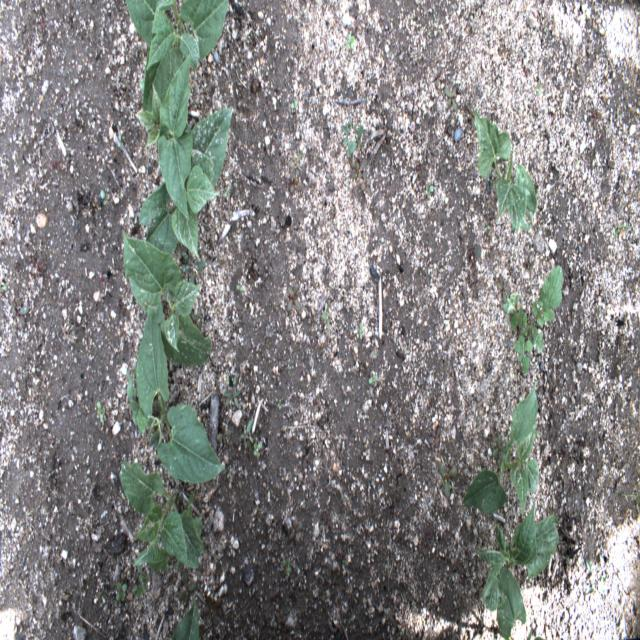crop: (139, 60, 236, 268), (127, 312, 221, 486), (119, 230, 217, 369), (126, 0, 229, 123), (477, 502, 560, 636), (120, 462, 202, 588), (462, 383, 541, 512), (473, 109, 538, 233), (166, 593, 200, 638)
weed: (498, 264, 562, 378), (348, 153, 377, 204), (237, 416, 264, 463), (278, 151, 307, 193), (338, 116, 366, 157), (438, 456, 461, 498), (220, 373, 244, 413), (442, 74, 462, 120), (467, 240, 483, 295), (36, 7, 58, 46), (529, 70, 550, 108), (286, 282, 306, 315), (581, 538, 596, 580), (614, 210, 631, 246), (284, 86, 303, 118), (353, 310, 369, 348), (280, 549, 298, 582), (114, 580, 131, 608), (213, 425, 230, 451), (342, 26, 357, 55), (232, 272, 248, 297), (133, 577, 151, 599), (320, 308, 336, 332), (92, 401, 109, 423), (366, 373, 383, 385), (276, 398, 284, 412)
